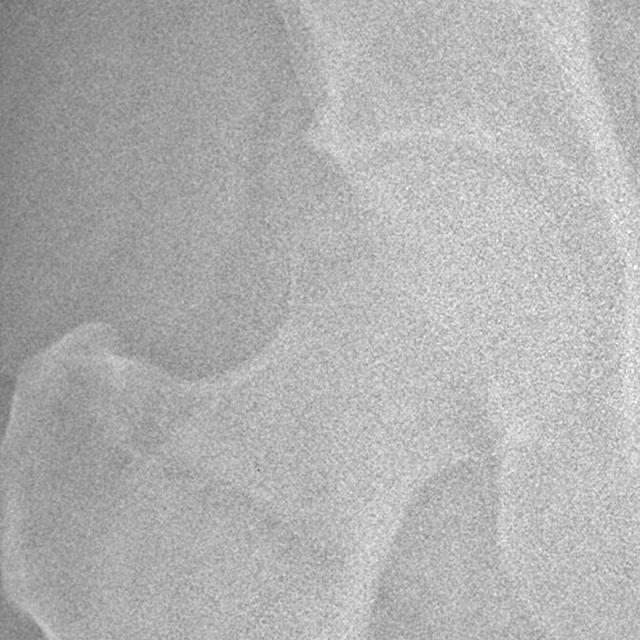Fitted_femural_head: (313, 161, 432, 313)
